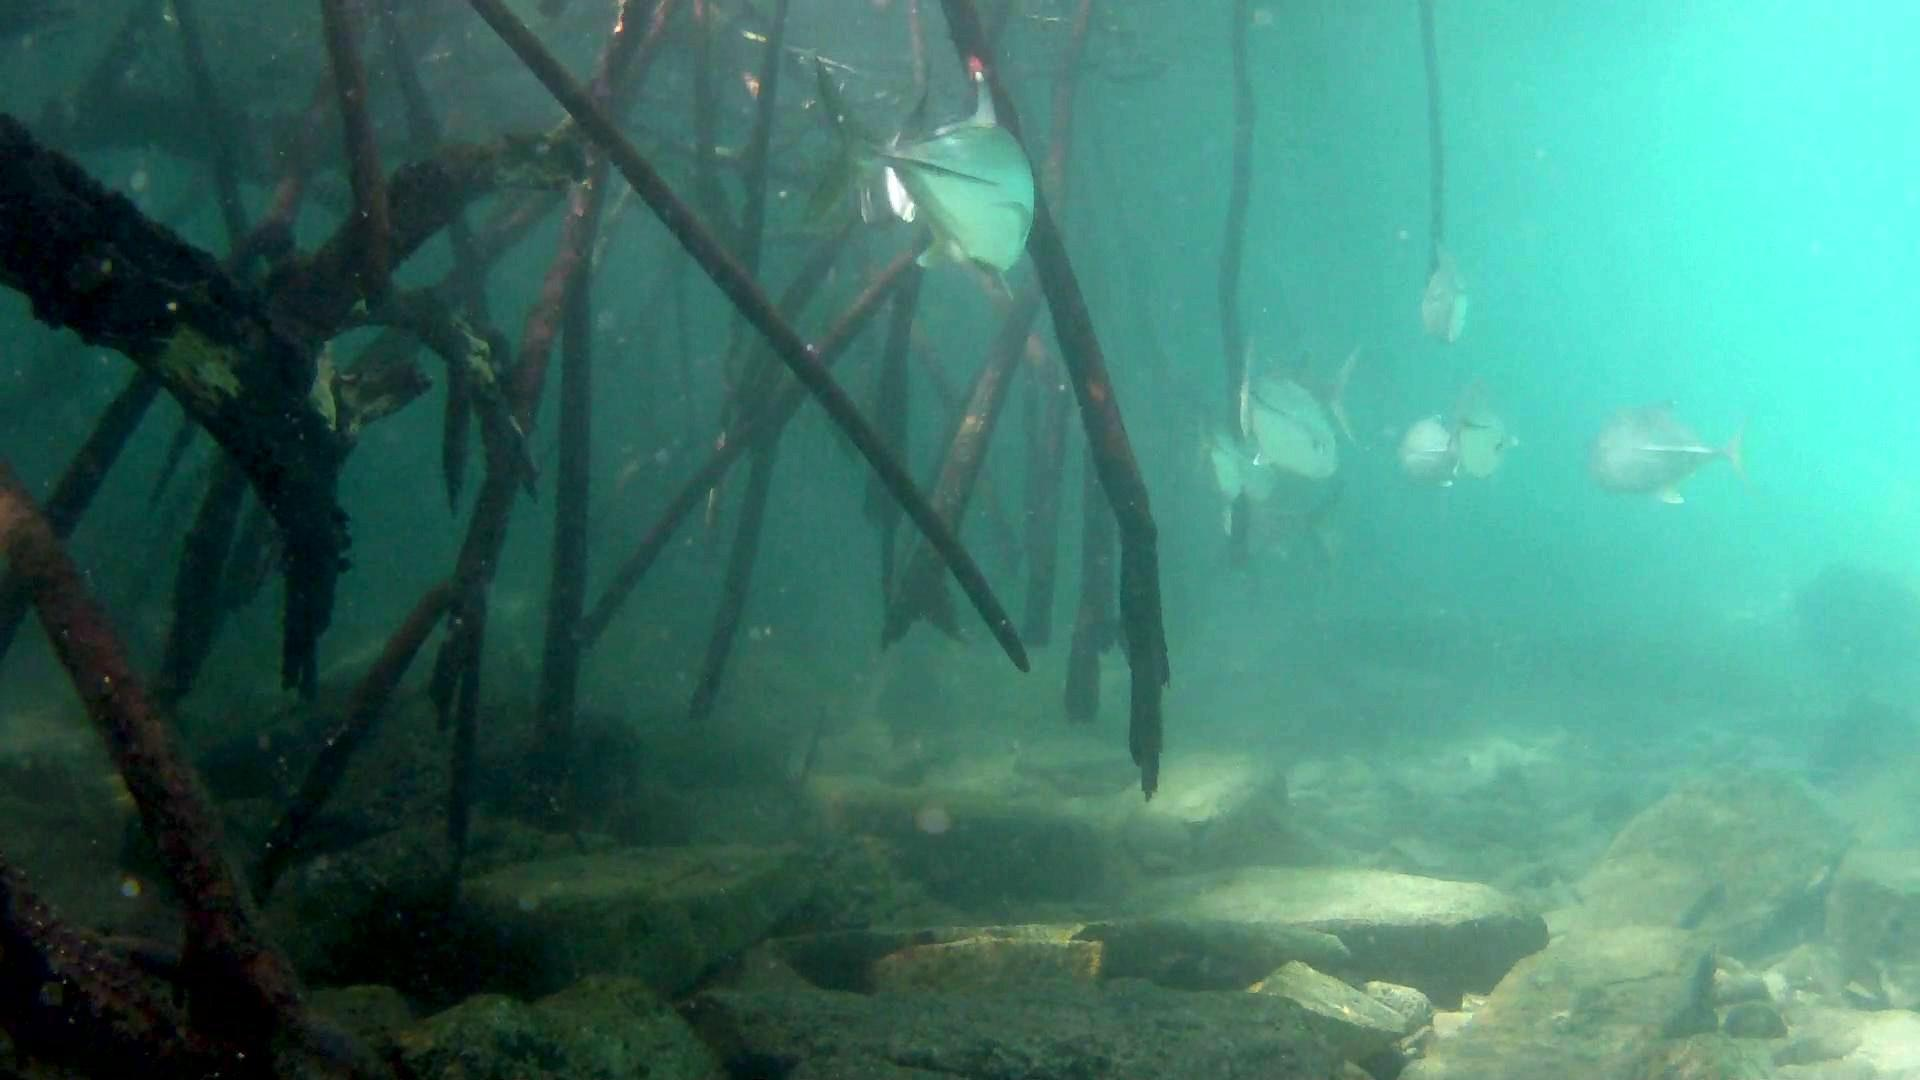caranx: (793, 34, 1043, 307)
